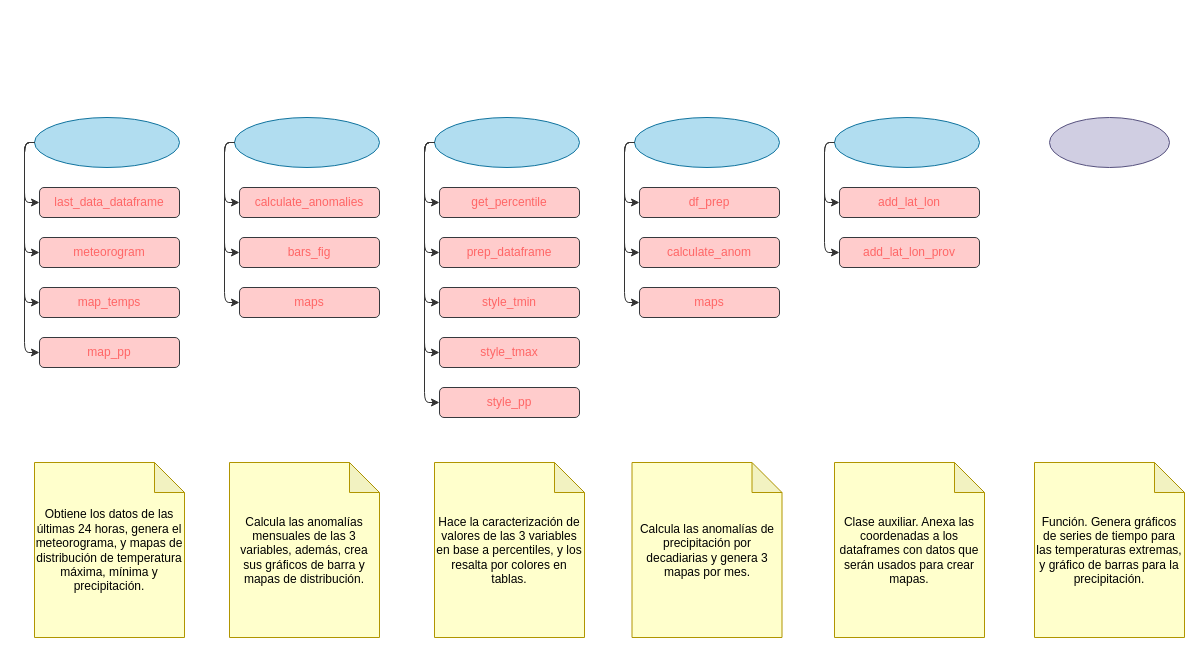
Some shapes in this 1202 by 655 pixel diagram are drawn without their labels. Each missing label, with the box of its shape:
Anomalies: (234, 116, 380, 168)
Clasification: (434, 116, 580, 168)
Coords: (834, 116, 980, 168)
Decadiarias: (634, 116, 780, 168)
LastData: (34, 116, 180, 168)
series: (1048, 116, 1170, 168)
